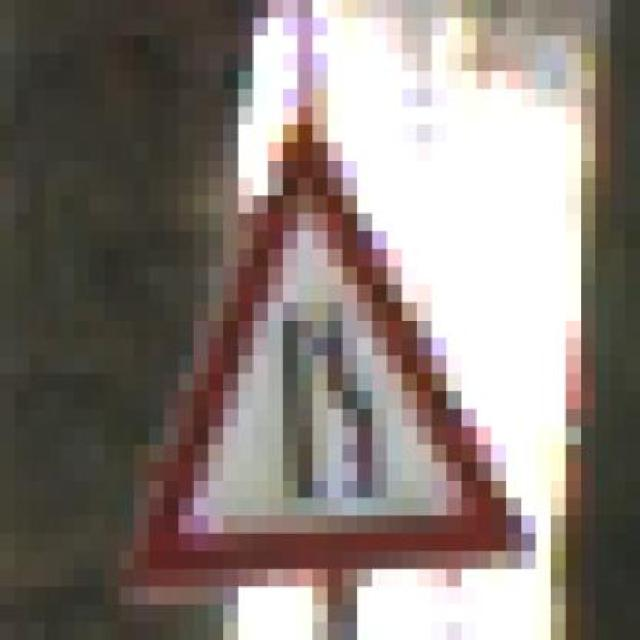-Road narrows on right: (104, 106, 550, 605)
